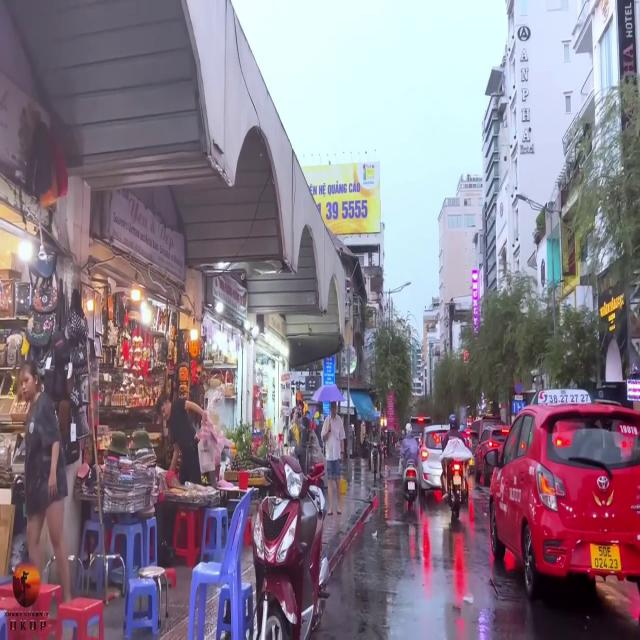bien_vang: (590, 537, 622, 573)
